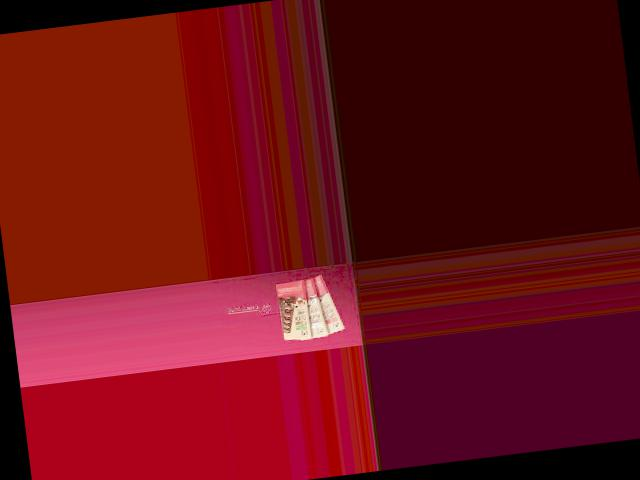chocolate: (307, 270, 345, 339)
